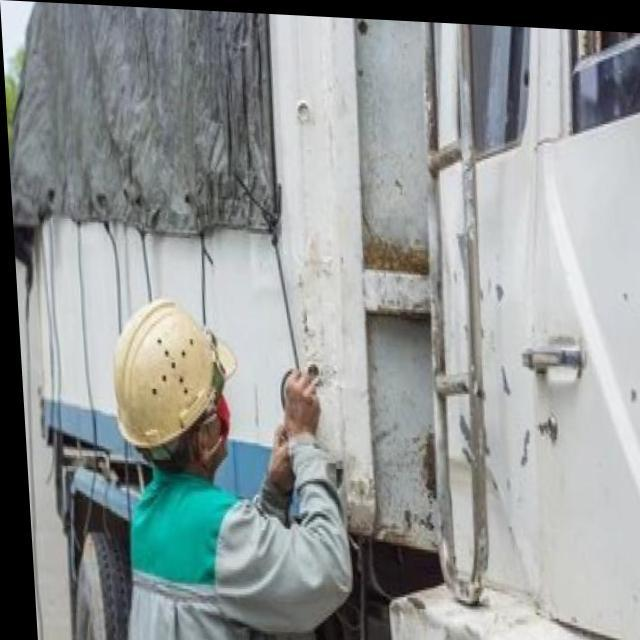covered: (3, 0, 312, 293)
